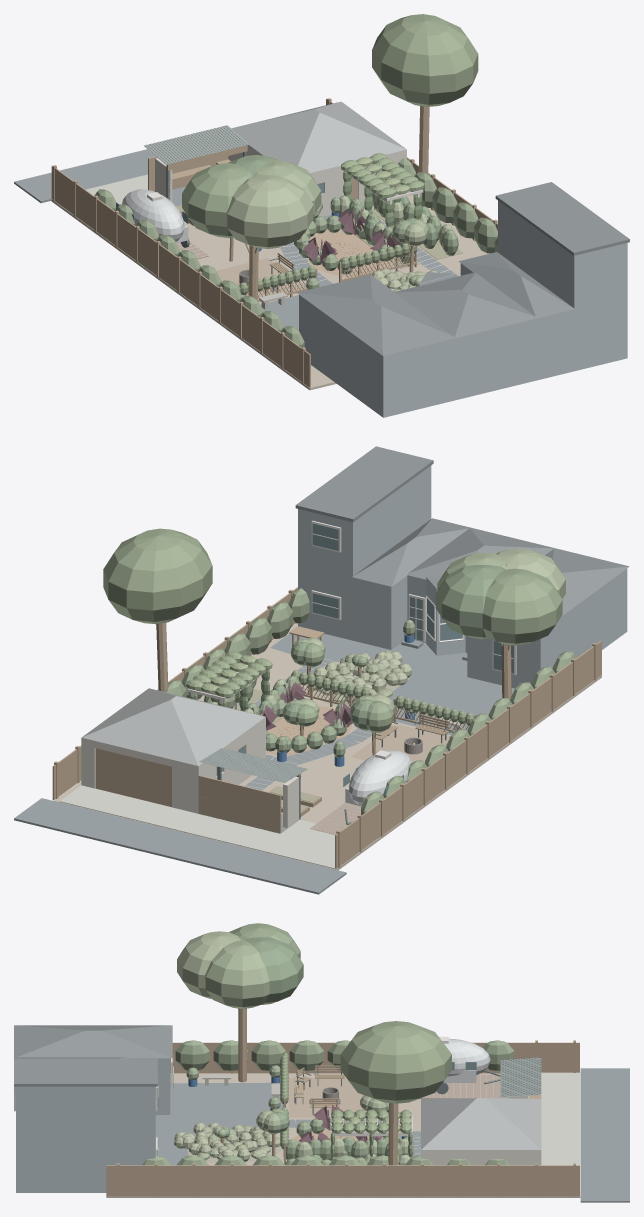
The model's file is existing-backyard.glb.
The picture shows the model from 3 angles, top to bottom: view 1: azimuth 30°, elevation 25°; view 2: azimuth 150°, elevation 25°; view 3: azimuth 270°, elevation 25°; orthographic projection. The views are drawn at different scales.
Parts seen in each view (by area): view 1: House west projecting wing, T6 west boundary tree canopy (×3), Approximate boundary fence, East overhanging canopy, Existing hip roof envelope - 18 inch N-S ridge, House two storey east portion, West house hip roof, House east projecting wing, House recessed central wing, Central house hip roof, Upper house shallow roof, Approximate backyard extent (+13 smaller); view 2: Approximate boundary fence (×2), T6 west boundary tree canopy (×4), Rear alley context, East overhanging canopy, Existing hip roof envelope - 18 inch N-S ridge, House west projecting wing, House two storey east portion, House flagstone patio, House east projecting wing, Approximate backyard extent, Upper house shallow roof, Rear work patio (+18 smaller); view 3: Approximate boundary fence (×2), T6 west boundary tree canopy (×4), East overhanging canopy, House two storey east portion, Rear alley context, House east projecting wing, Existing hip roof envelope - 18 inch N-S ridge, West house hip roof, House flagstone patio, Upper house shallow roof, Boundary climbing greenery (×5), Rear work patio (+10 smaller).
Boxes of the visible parts, x1,y1,x2,y2 form: House west projecting wing: [299, 295, 454, 417]; T6 west boundary tree canopy (×3): [182, 160, 321, 248]; Approximate boundary fence: [51, 165, 310, 387]; East overhanging canopy: [372, 14, 478, 106]; Existing hip roof envelope - 18 inch N-S ridge: [231, 101, 406, 172]; House two storey east portion: [498, 200, 627, 308]; West house hip roof: [297, 274, 454, 355]; House east projecting wing: [460, 263, 627, 380]; House recessed central wing: [454, 318, 536, 400]; Central house hip roof: [394, 272, 538, 338]; Upper house shallow roof: [495, 182, 629, 255]; Approximate backyard extent: [51, 195, 489, 390]; Approximate boundary fence (×2): [52, 587, 601, 868]; T6 west boundary tree canopy (×4): [435, 548, 565, 645]; Rear alley context: [14, 798, 346, 894]; East overhanging canopy: [103, 528, 212, 624]; Existing hip roof envelope - 18 inch N-S ridge: [82, 688, 265, 765]; House west projecting wing: [467, 569, 627, 688]; House two storey east portion: [298, 465, 431, 576]; House flagstone patio: [270, 634, 514, 735]; House east projecting wing: [298, 563, 407, 649]; Approximate backyard extent: [54, 623, 601, 870]; Upper house shallow roof: [295, 446, 433, 522]; Rear work patio: [176, 814, 376, 869]; Approximate boundary fence (×2): [106, 1042, 579, 1195]; T6 west boundary tree canopy (×4): [177, 923, 303, 1008]; East overhanging canopy: [340, 1021, 451, 1103]; House two storey east portion: [16, 1086, 155, 1134]; Rear alley context: [580, 1068, 629, 1202]; House east projecting wing: [16, 1135, 155, 1192]; Existing hip roof envelope - 18 inch N-S ridge: [421, 1098, 541, 1149]; West house hip roof: [14, 1025, 172, 1058]; House flagstone patio: [155, 1082, 283, 1165]; Upper house shallow roof: [14, 1058, 157, 1086]; Boundary climbing greenery (×5): [175, 1040, 514, 1071]; Rear work patio: [528, 1072, 580, 1141].
Size of the model in its own units: 19.82 by 9.94 by 32.38.
